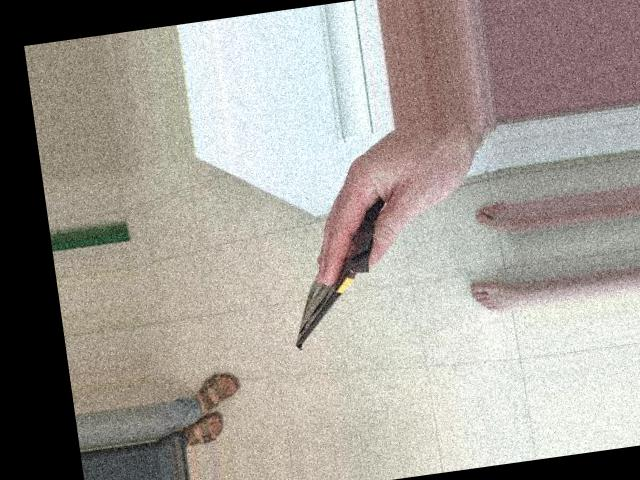chocolate: (268, 182, 409, 354)
